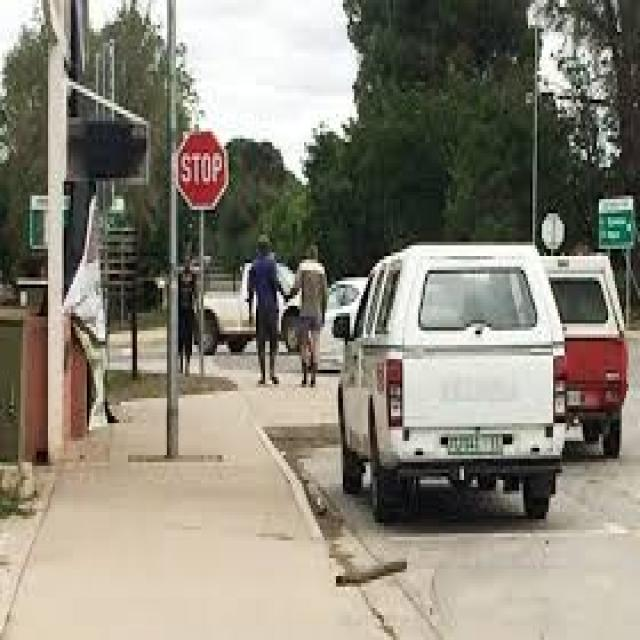Pedestrians: (245, 234, 290, 394), (290, 242, 329, 391)
Pickup Trucks: (338, 245, 567, 530)
